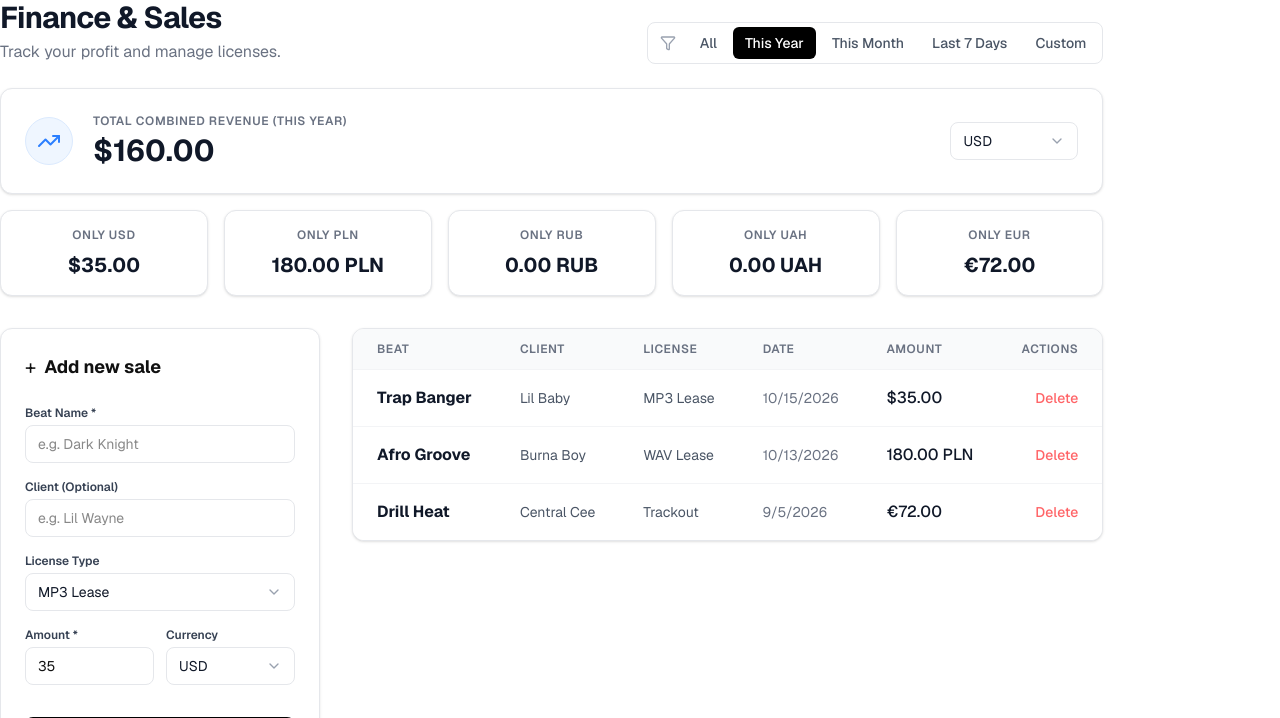
it: FinansePage (/finanse) › opens and closes delete confirmation modal on cancel
Click the button "Delete" in the row of "Trap Banger": x=1057, y=398 x1=1035 y1=388 x2=1078 y2=408
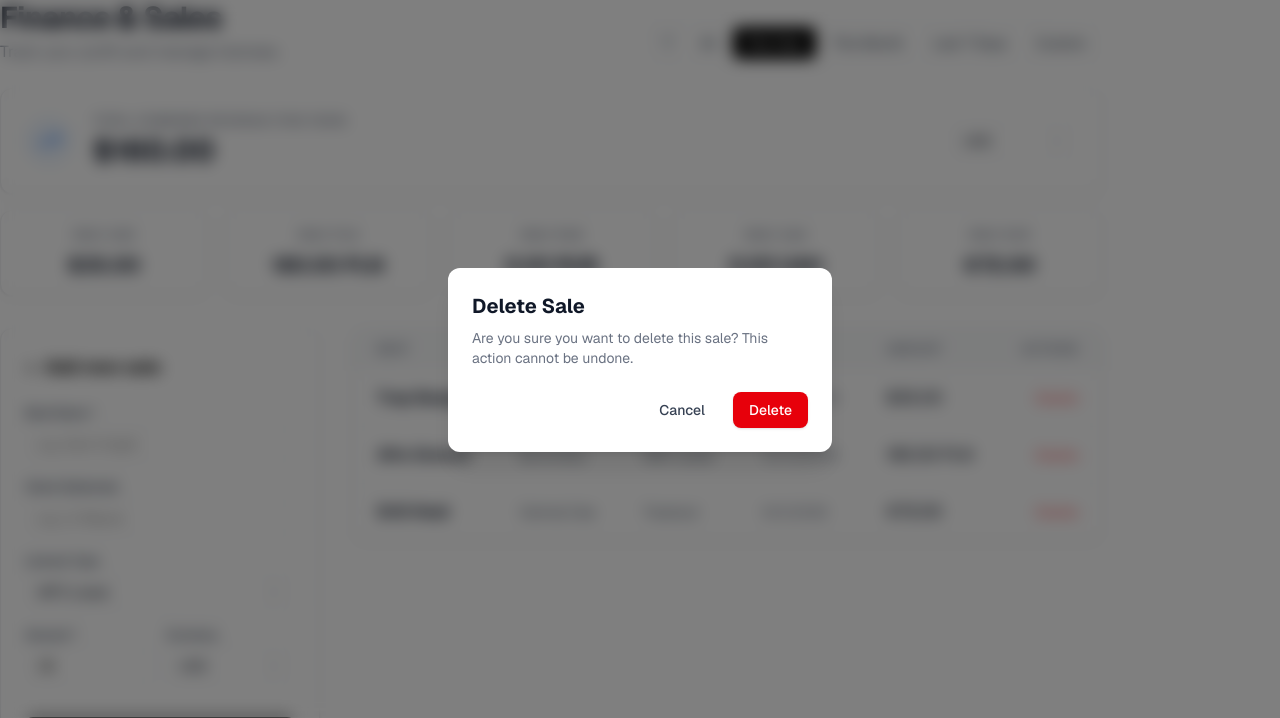
Now the heading "Delete Sale" is shown, box x1=472 y1=293 x2=585 y2=319
Now the text "Are you sure you want to delete this sale?" is shown, box x1=472 y1=329 x2=768 y2=367
Click the button "Cancel": x=682, y=410 x1=643 y1=392 x2=721 y2=428
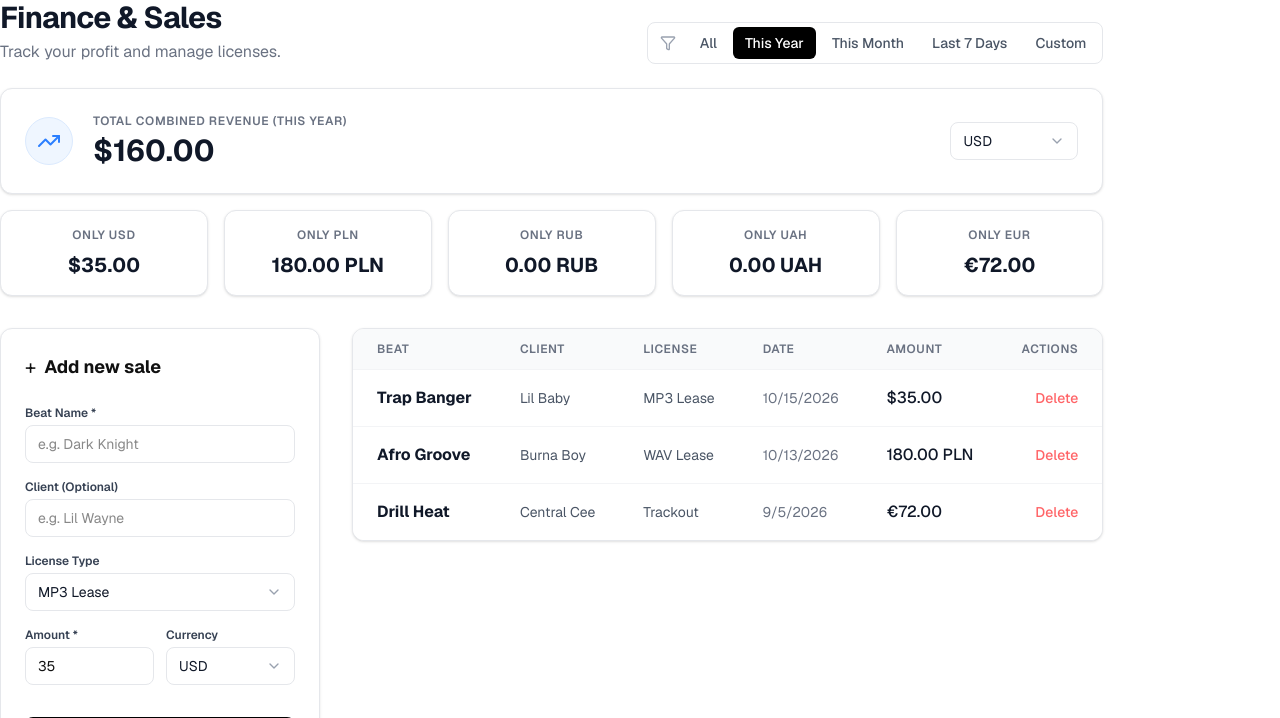
Now the heading "Delete Sale" is gone
